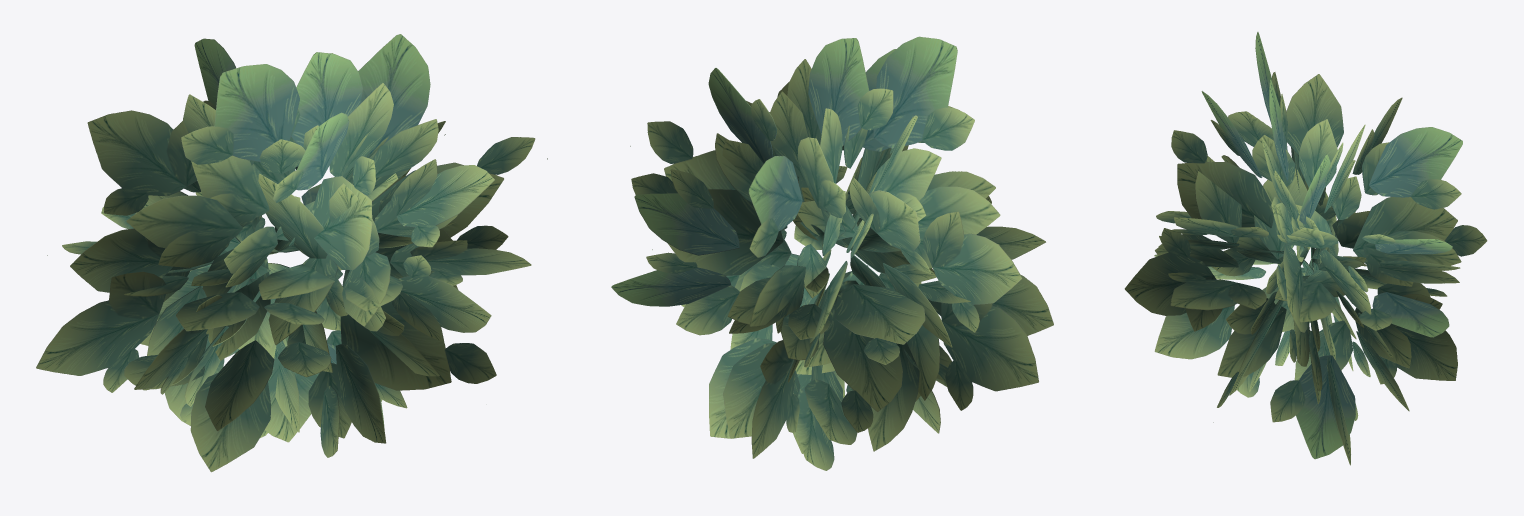
File: treecrown.fbx
The picture shows the model from 3 angles, left to right: view 1: azimuth 30°, elevation 25°; view 2: azimuth 150°, elevation 25°; view 3: azimuth 270°, elevation 25°; orthographic projection. The views are drawn at different scales.
Parts seen in each view (by area): view 1: Plane.001; view 2: Plane.001; view 3: Plane.001.
Boxes of the visible parts, bbox=[...] form: Plane.001: bbox=[36, 34, 547, 472]; Plane.001: bbox=[611, 36, 1053, 470]; Plane.001: bbox=[1124, 32, 1487, 465].
Bounding box in the file's own units: 414 × 402 × 349.
1 material, 1 textured.
